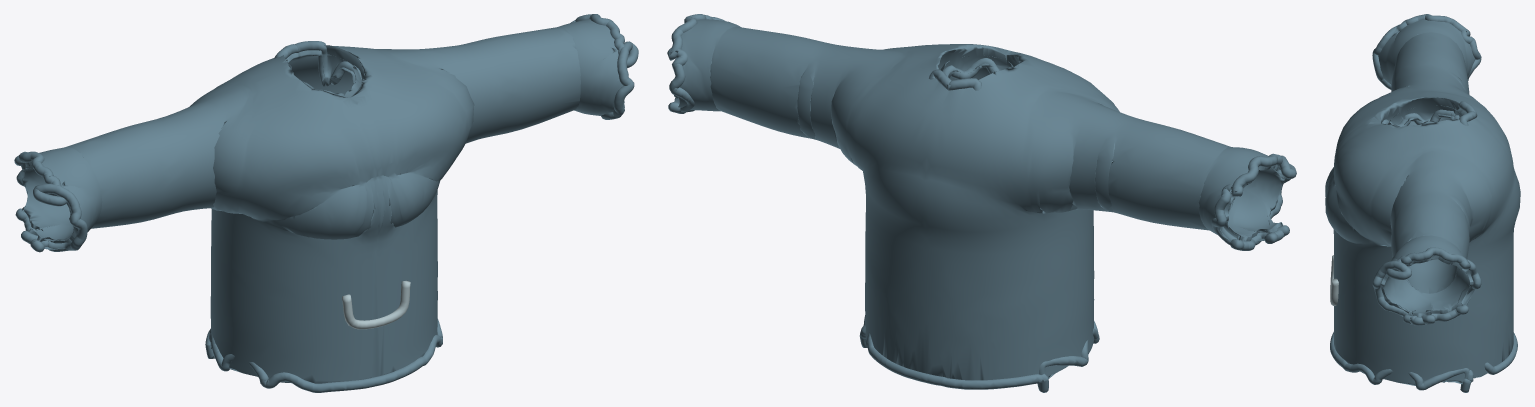
Rendered from 4HT-feminino.glb.
3 views of the same model, side by side, from view 1: azimuth 30°, elevation 25°; view 2: azimuth 150°, elevation 25°; view 3: azimuth 270°, elevation 25° (orthographic). The views are drawn at different scales.
Visible parts, largest first — view 1: fitted-shell, bound-edge (×4), pocket-seam; view 2: fitted-shell, bound-edge (×4); view 3: fitted-shell, bound-edge (×4), pocket-seam.
Boxes of the visible parts, bbox=[...] form: fitted-shell: bbox=[21, 19, 623, 383]; bound-edge (×4): bbox=[14, 14, 638, 392]; pocket-seam: bbox=[342, 280, 410, 329]; fitted-shell: bbox=[674, 19, 1285, 380]; bound-edge (×4): bbox=[667, 14, 1296, 392]; fitted-shell: bbox=[1325, 19, 1520, 385]; bound-edge (×4): bbox=[1330, 14, 1517, 392]; pocket-seam: bbox=[1330, 255, 1338, 305].
Bounding box in the file's own units: 0.0914 × 0.0424 × 0.0303.
